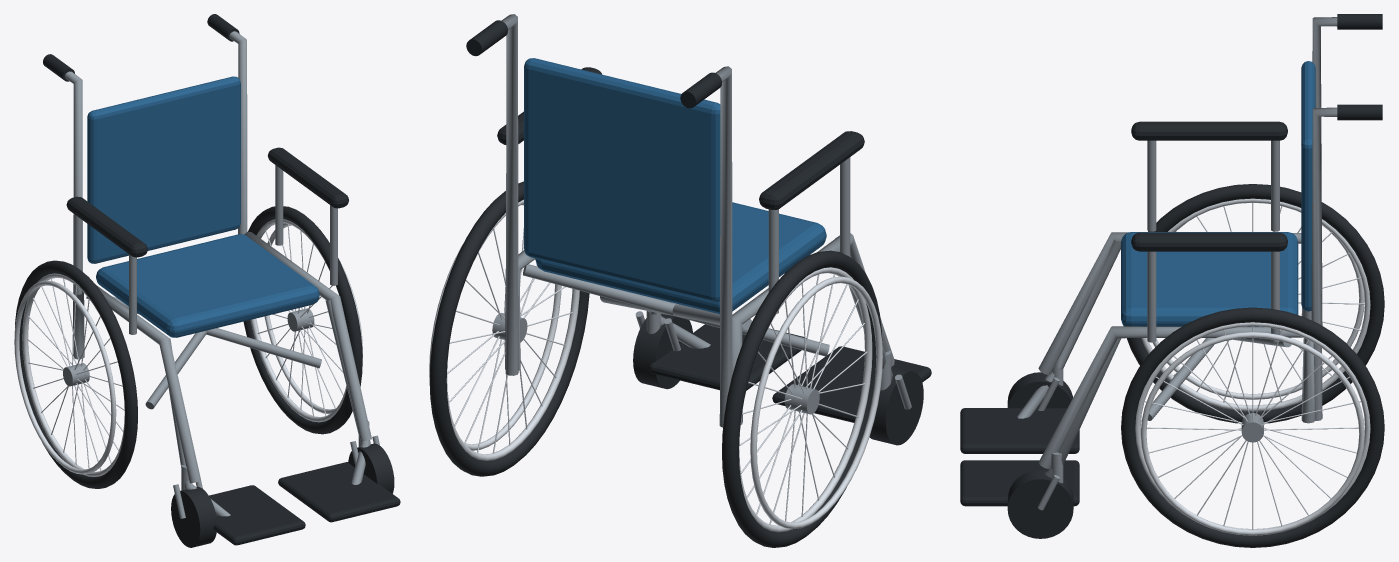
The model's file is movinn-wheelchair.glb.
3 renders of one model, left to right at view 1: azimuth 30°, elevation 25°; view 2: azimuth 150°, elevation 25°; view 3: azimuth 270°, elevation 25°, orthographic. The views are drawn at different scales.
Visible parts, largest first — view 1: Wheelchair back upholstery, Wheelchair seat cushion, Rear tire, Rear tire.001, Foot plate.001, Foot plate, Side frame, Hand rim, Side frame.001, Front caster, Rear rim, Arm pad.001 (+16 smaller); view 2: Wheelchair back upholstery, Rear tire, Rear tire.001, Wheelchair seat cushion, Back upright and push handle.001, Back upright and push handle, Hand rim, Foot plate, Foot plate.001, Rear rim, Arm pad, Front caster (+11 smaller); view 3: Wheelchair seat cushion, Rear tire.001, Rear tire, Foot plate, Hand rim.001, Side frame.001, Front caster.001, Foot plate.001, Arm pad.001, Arm pad, Wheelchair back upholstery, Back upright and push handle.001 (+16 smaller).
Boxes of the visible parts, bbox=[...] form: Wheelchair back upholstery: bbox=[87, 76, 240, 263]; Wheelchair seat cushion: bbox=[96, 234, 319, 337]; Rear tire: bbox=[15, 260, 137, 488]; Rear tire.001: bbox=[243, 206, 362, 434]; Foot plate.001: bbox=[278, 462, 400, 522]; Foot plate: bbox=[209, 485, 305, 545]; Side frame: bbox=[72, 284, 201, 483]; Hand rim: bbox=[14, 280, 116, 474]; Side frame.001: bbox=[244, 231, 371, 441]; Front caster: bbox=[171, 486, 217, 547]; Rear rim: bbox=[22, 273, 124, 476]; Arm pad.001: bbox=[268, 147, 348, 208]; Wheelchair back upholstery: bbox=[524, 58, 720, 301]; Rear tire: bbox=[722, 250, 882, 547]; Rear tire.001: bbox=[429, 181, 589, 476]; Wheelchair seat cushion: bbox=[535, 202, 826, 314]; Back upright and push handle.001: bbox=[501, 14, 518, 375]; Back upright and push handle: bbox=[715, 66, 732, 427]; Hand rim: bbox=[750, 276, 882, 529]; Foot plate: bbox=[772, 346, 931, 422]; Foot plate.001: bbox=[649, 324, 806, 390]; Rear rim: bbox=[739, 267, 872, 532]; Arm pad: bbox=[759, 131, 864, 209]; Front caster: bbox=[869, 366, 923, 445]; Wheelchair seat cushion: bbox=[1121, 232, 1298, 326]; Rear tire.001: bbox=[1121, 307, 1384, 547]; Rear tire: bbox=[1126, 184, 1384, 423]; Foot plate: bbox=[960, 408, 1079, 453]; Hand rim.001: bbox=[1140, 332, 1364, 535]; Side frame.001: bbox=[1038, 326, 1314, 468]; Front caster.001: bbox=[1007, 469, 1073, 538]; Foot plate.001: bbox=[960, 460, 1079, 506]; Arm pad.001: bbox=[1131, 232, 1287, 251]; Arm pad: bbox=[1131, 121, 1287, 140]; Wheelchair back upholstery: bbox=[1301, 61, 1315, 311]; Back upright and push handle.001: bbox=[1311, 107, 1337, 420].
Size of the model in its own units: 0.794 by 1.14 by 1.03.
